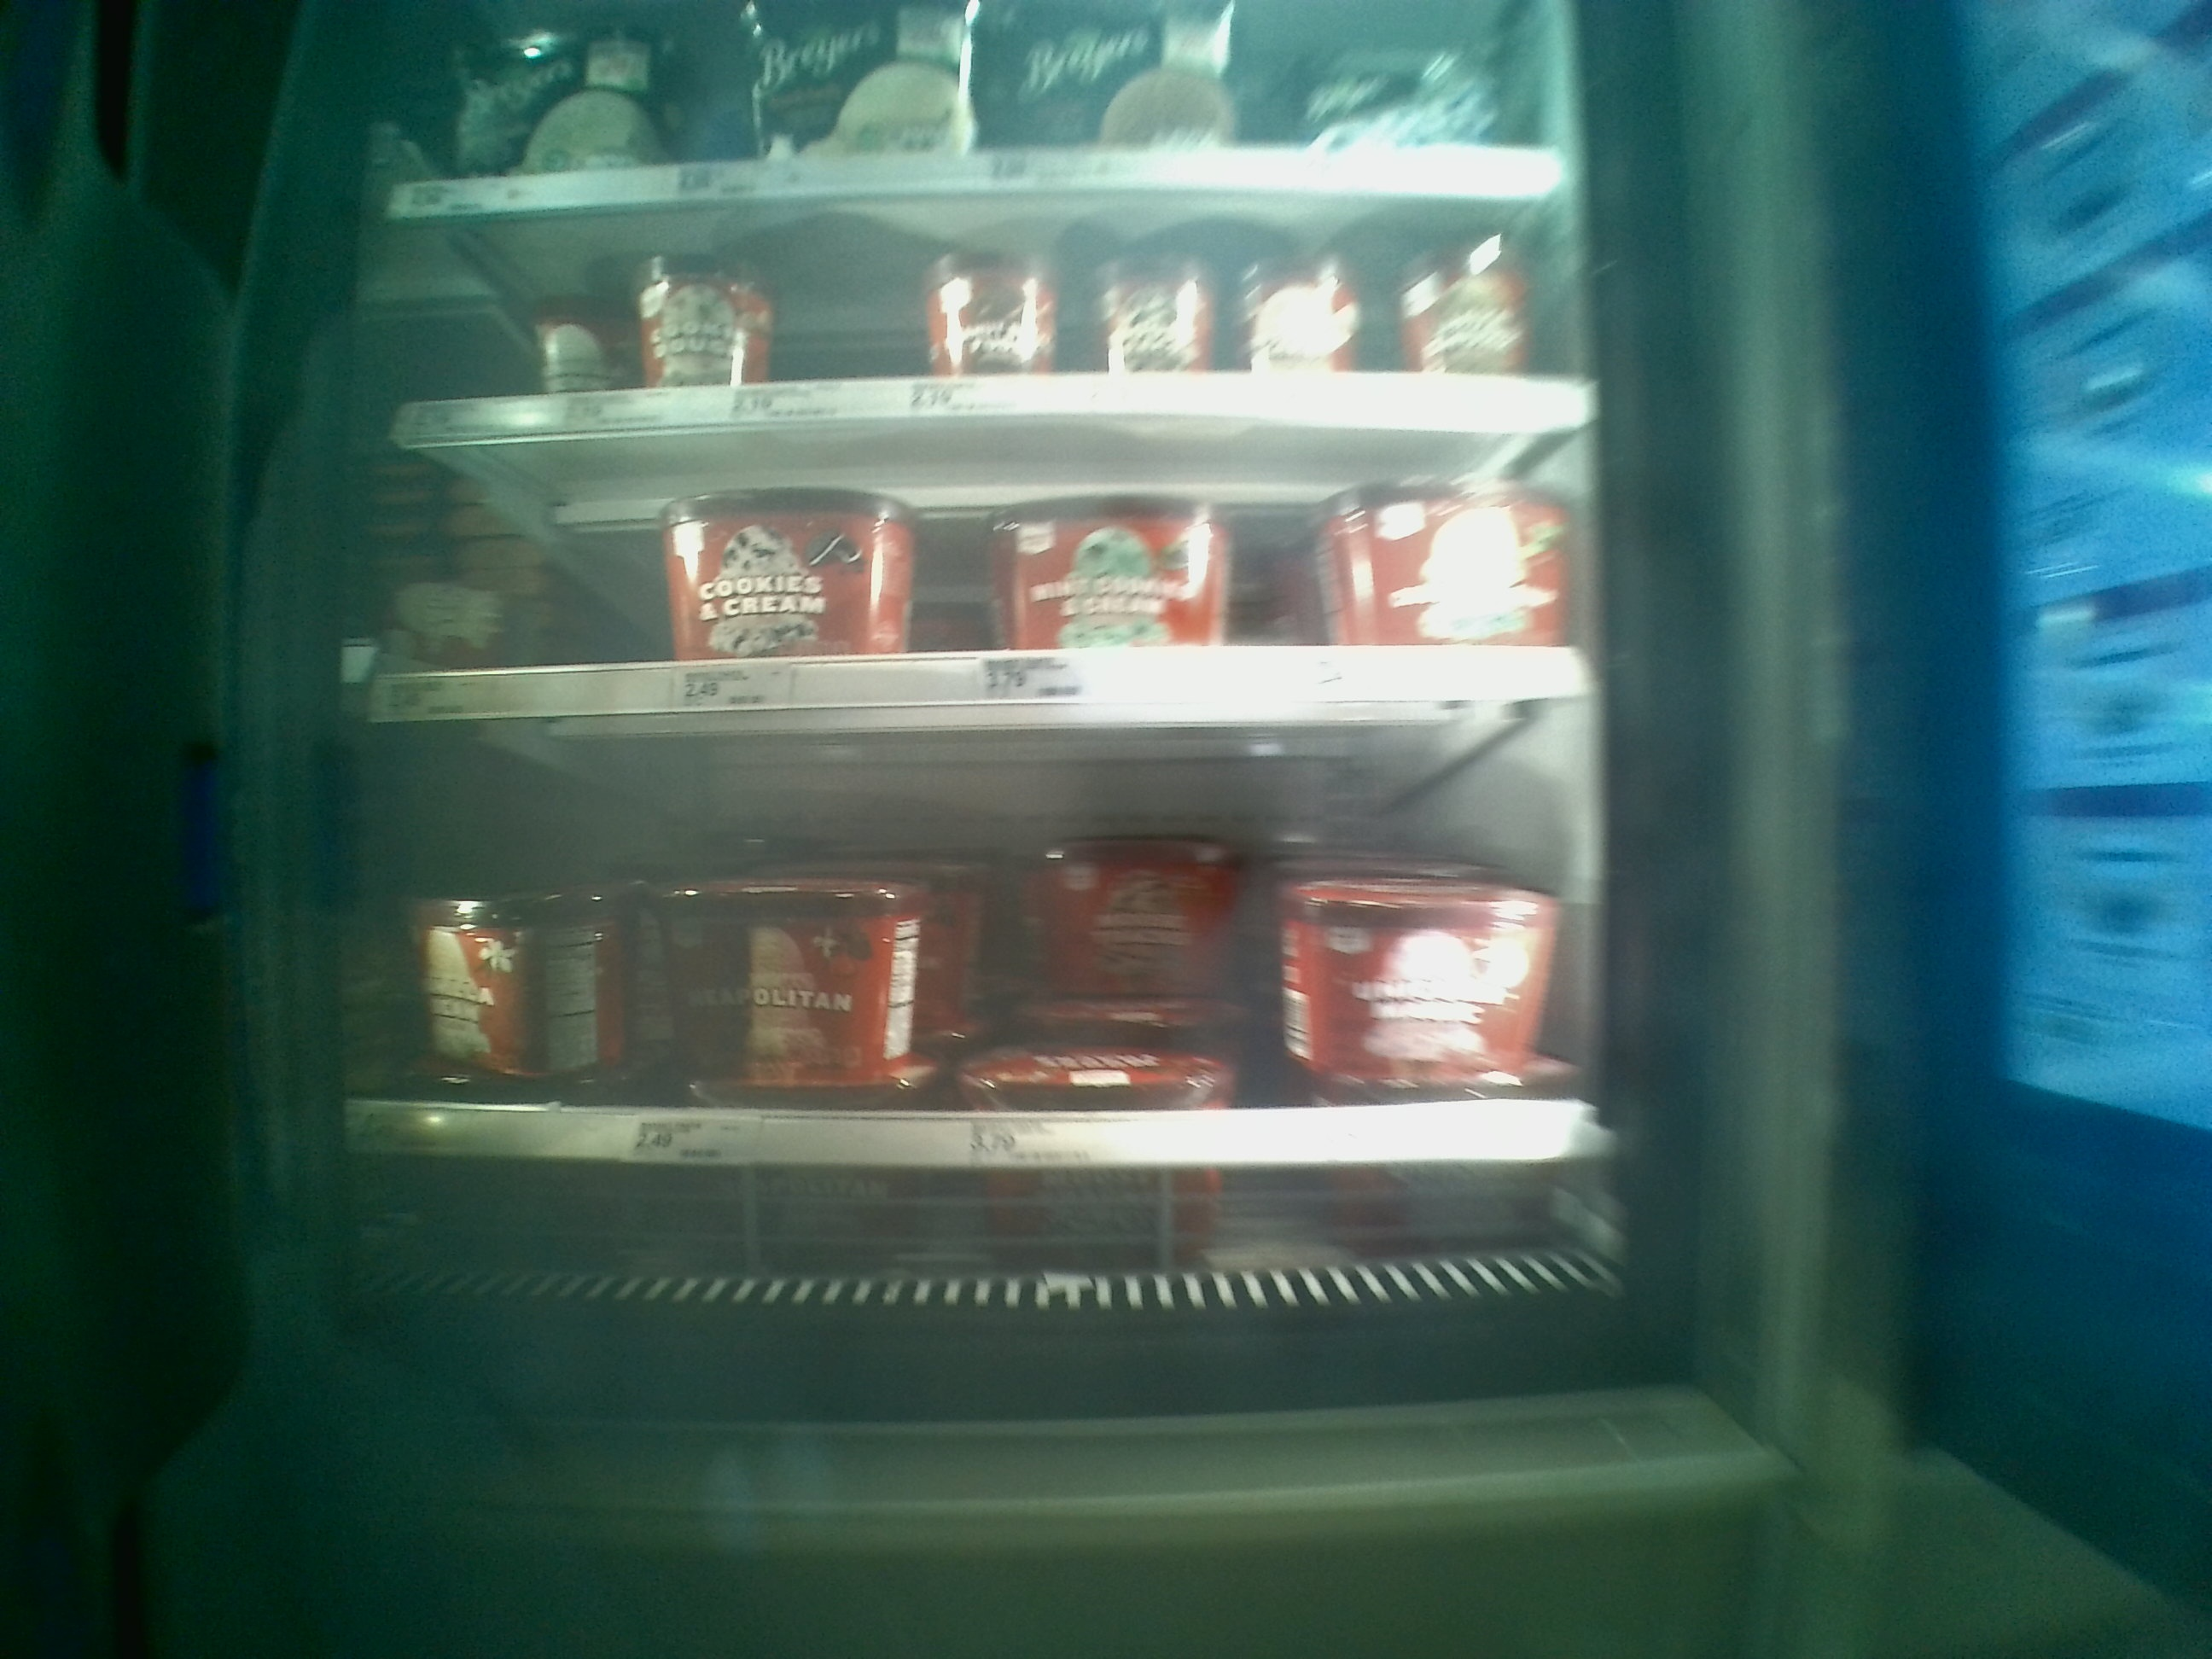ice-cream-shelf: (355, 735, 1585, 1197)
